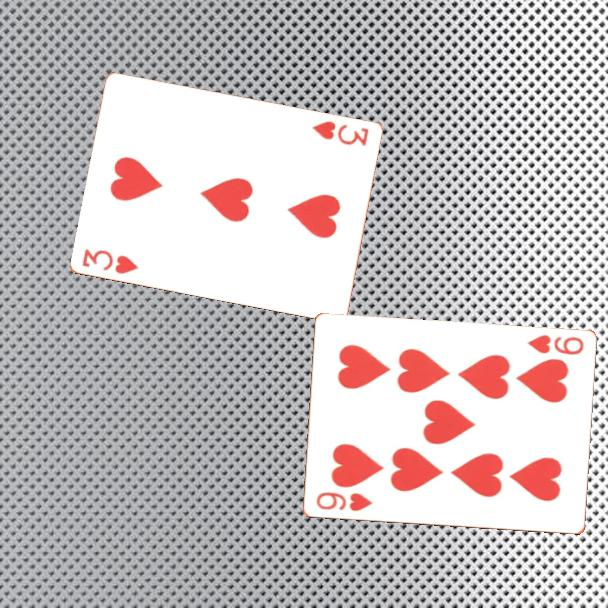h03: (79, 245, 142, 277), (309, 117, 372, 148)
h09: (524, 332, 586, 358), (312, 489, 375, 514)
